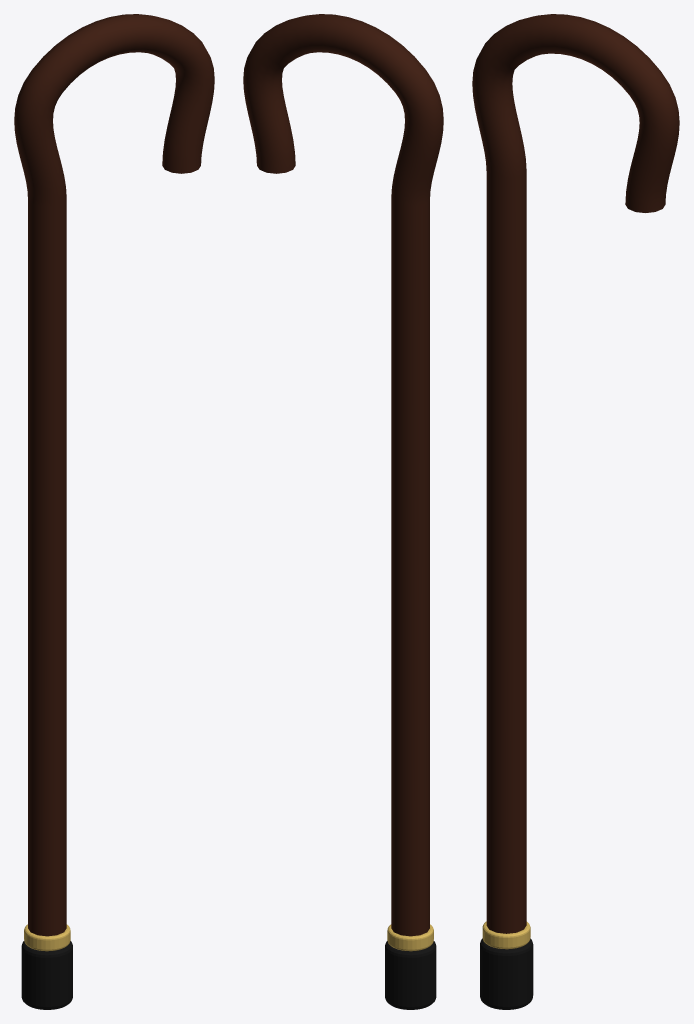
The model's file is Baston_Teresa.fbx.
3 renders of one model, left to right at view 1: azimuth 30°, elevation 25°; view 2: azimuth 150°, elevation 25°; view 3: azimuth 330°, elevation 25°, orthographic. The views are drawn at different scales.
Visible parts, largest first — view 1: Baston_madera, Punta_goma, Aro_dorado; view 2: Baston_madera, Punta_goma, Aro_dorado; view 3: Baston_madera, Punta_goma, Aro_dorado.
Part boxes in pixels (box(x1,y1,x2,y2)): Baston_madera: box(14, 14, 214, 936); Punta_goma: box(21, 941, 72, 1009); Aro_dorado: box(24, 924, 70, 951); Baston_madera: box(243, 14, 443, 936); Punta_goma: box(385, 941, 436, 1009); Aro_dorado: box(387, 924, 433, 951); Baston_madera: box(472, 14, 679, 933); Punta_goma: box(480, 938, 533, 1009); Aro_dorado: box(482, 921, 530, 949).
Bounding box in the file's own units: 17.45 × 82.48 × 4.
